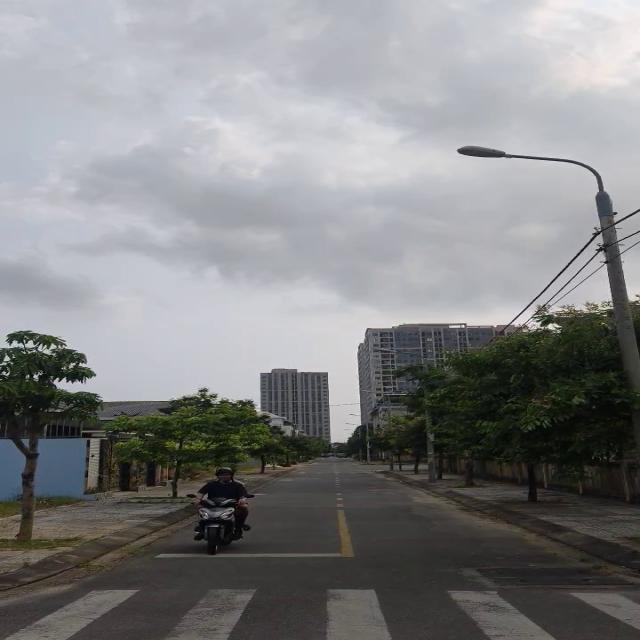with_helmet: (215, 467, 242, 487)
